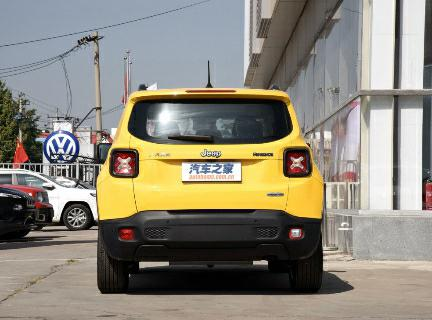Jeep-自由侠: (93, 80, 334, 297)
